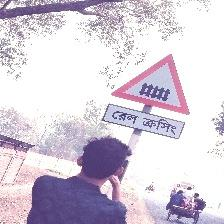Rail-crossing: (103, 53, 191, 140)
